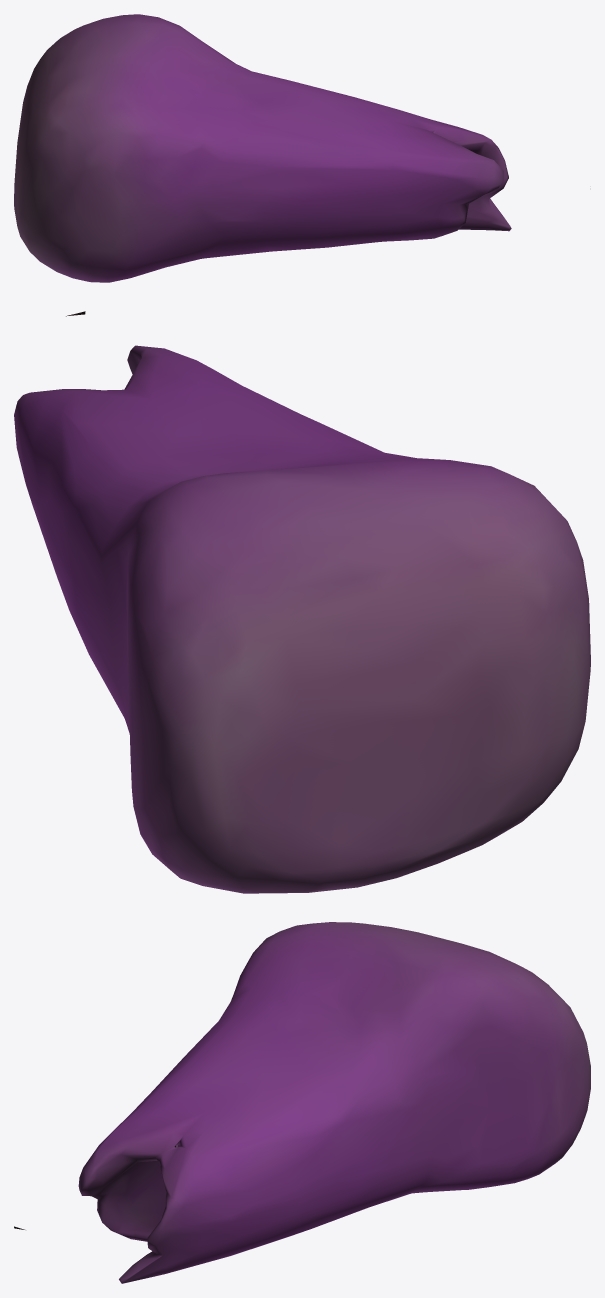
3 views of the same model, one above another, from view 1: azimuth 30°, elevation 25°; view 2: azimuth 150°, elevation 25°; view 3: azimuth 270°, elevation 25° (orthographic). The views are drawn at different scales.
Visible parts, largest first — view 1: 73_geometry_0; view 2: 73_geometry_0; view 3: 73_geometry_0.
Boxes of the visible parts, x1=… form: 73_geometry_0: x1=14, y1=14, x2=511, y2=282; 73_geometry_0: x1=14, y1=311, x2=590, y2=893; 73_geometry_0: x1=14, y1=922, x2=590, y2=1283.
Size of the model in its own units: 0.0788 by 0.0363 by 0.0792.
